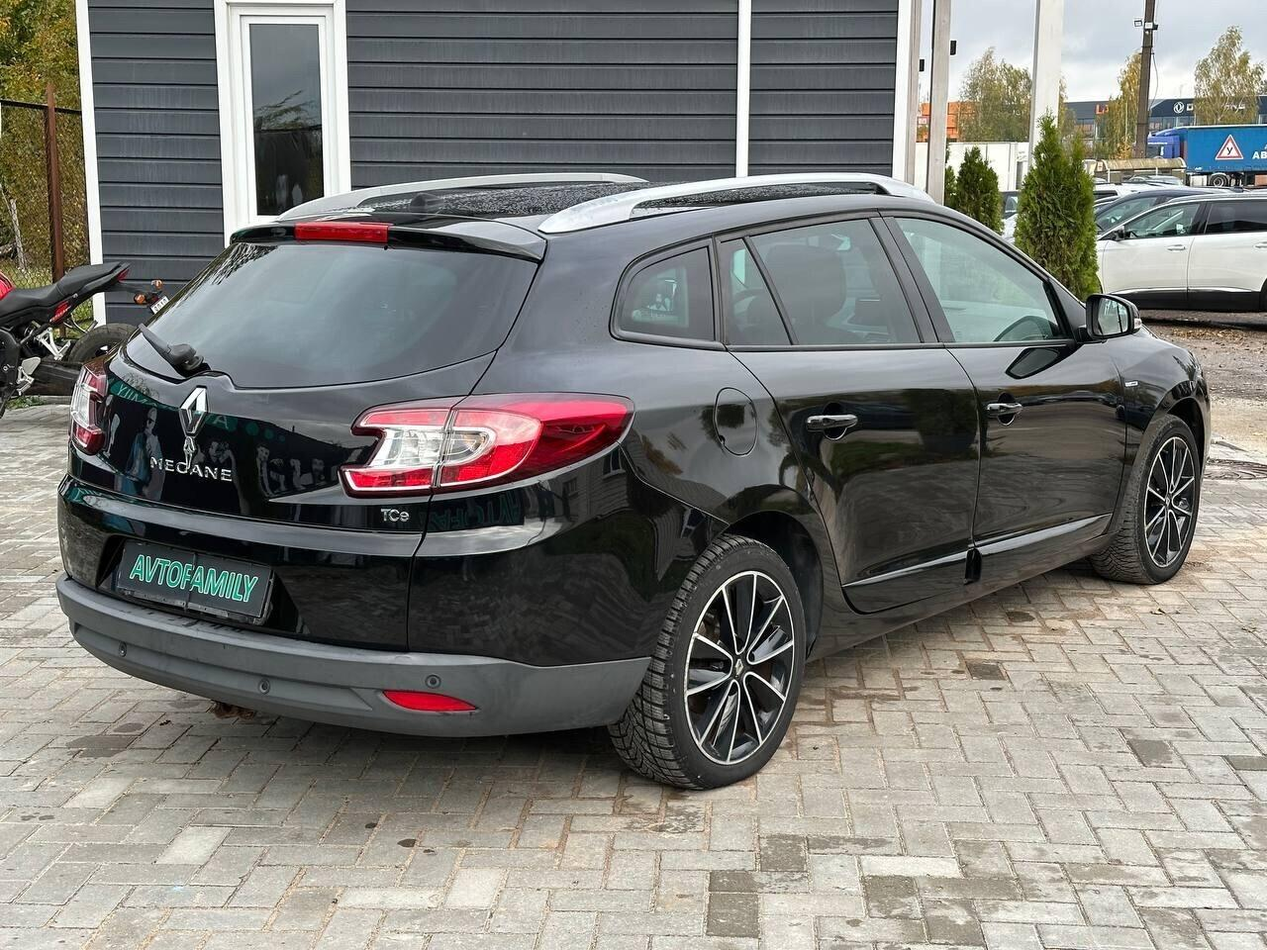Megane_2012-2014: (53, 174, 1221, 790)
